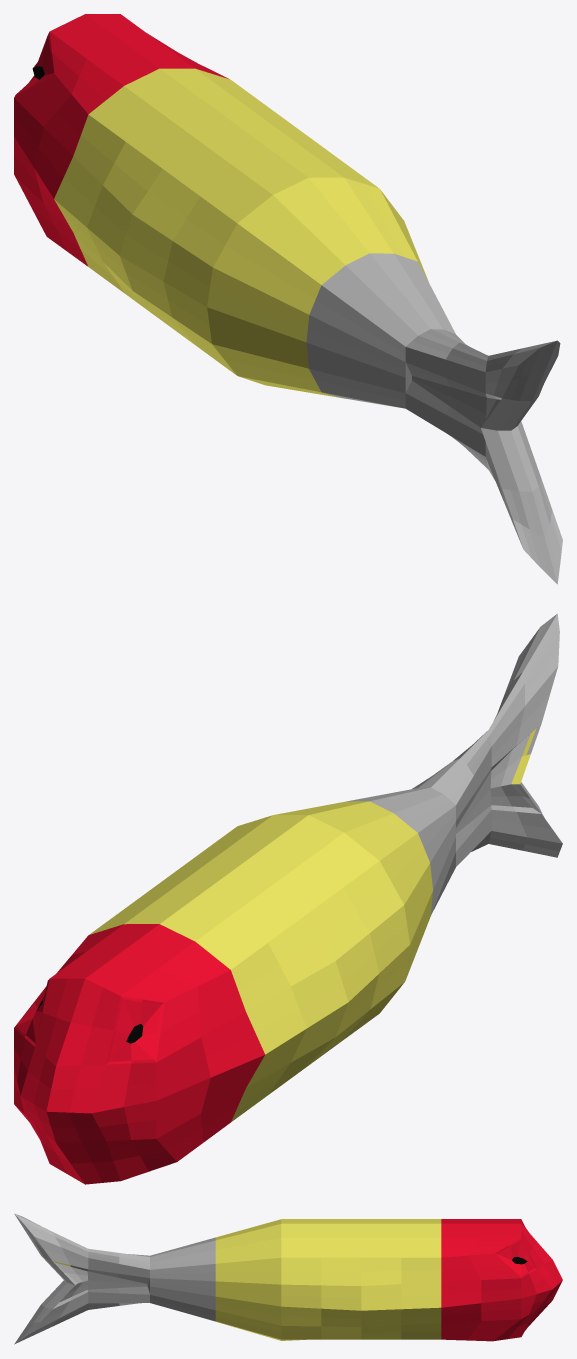
Rendered from bombfish.fbx.
3 views of the same model, one above another, from view 1: azimuth 30°, elevation 25°; view 2: azimuth 150°, elevation 25°; view 3: azimuth 270°, elevation 25° (orthographic). The views are drawn at different scales.
Visible parts, largest first — view 1: bombfish; view 2: bombfish; view 3: bombfish.
Part boxes in pixels (x1=…): bombfish: x1=14, y1=14, x2=562, y2=584; bombfish: x1=14, y1=613, x2=562, y2=1184; bombfish: x1=14, y1=1213, x2=562, y2=1344.
Size of the model in its own units: 581 by 586 by 2221.
